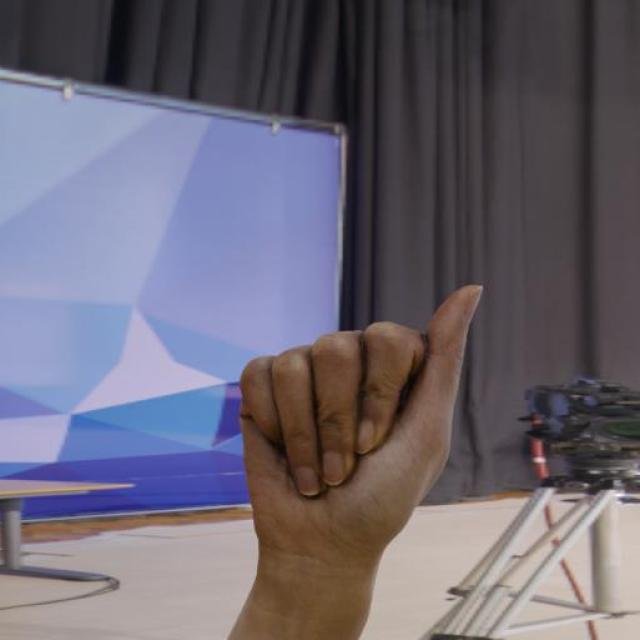A: (229, 273, 483, 562)
